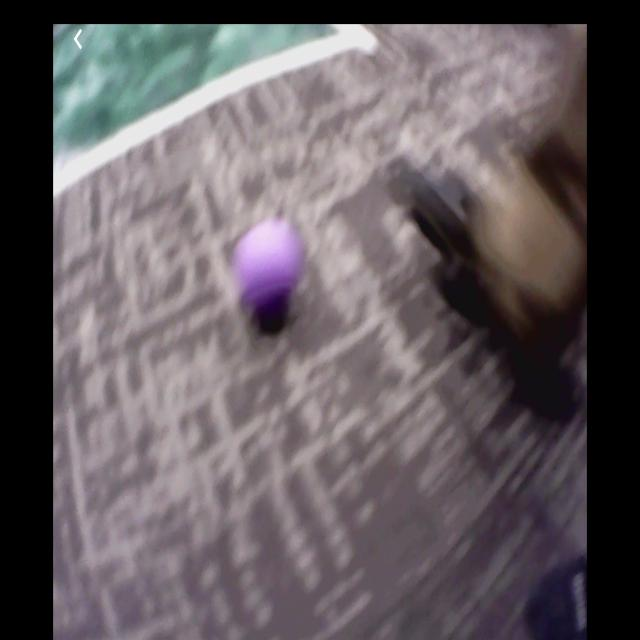ball: (239, 221, 302, 307)
